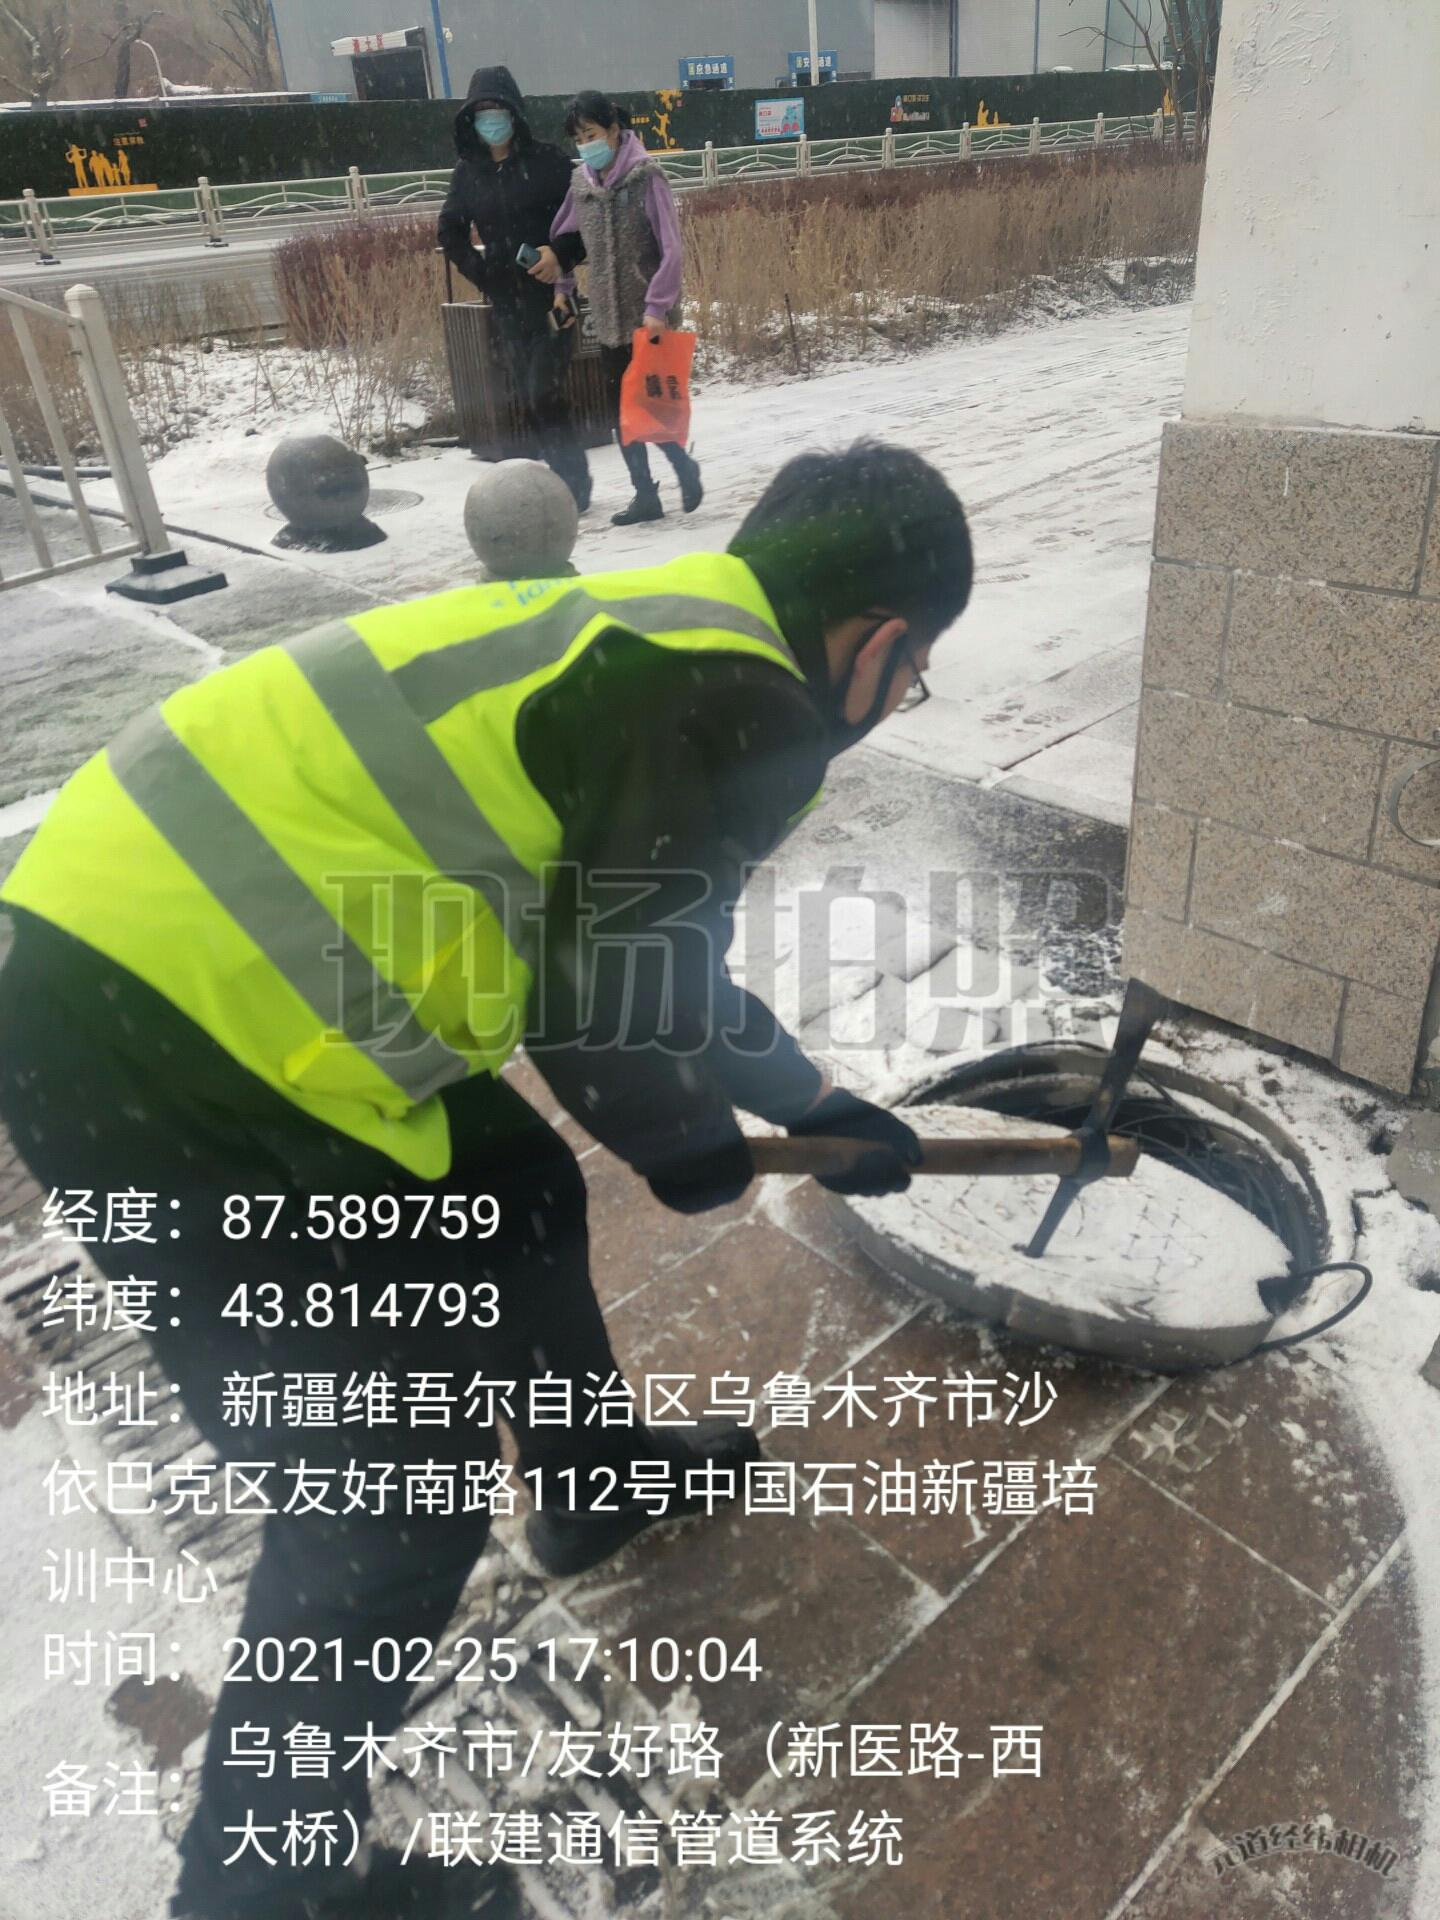wellcover: (824, 1031, 1378, 1392)
